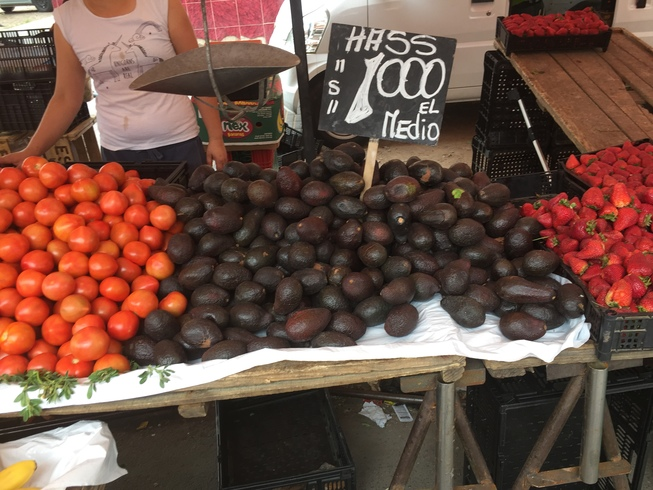precio: (319, 20, 454, 155)
